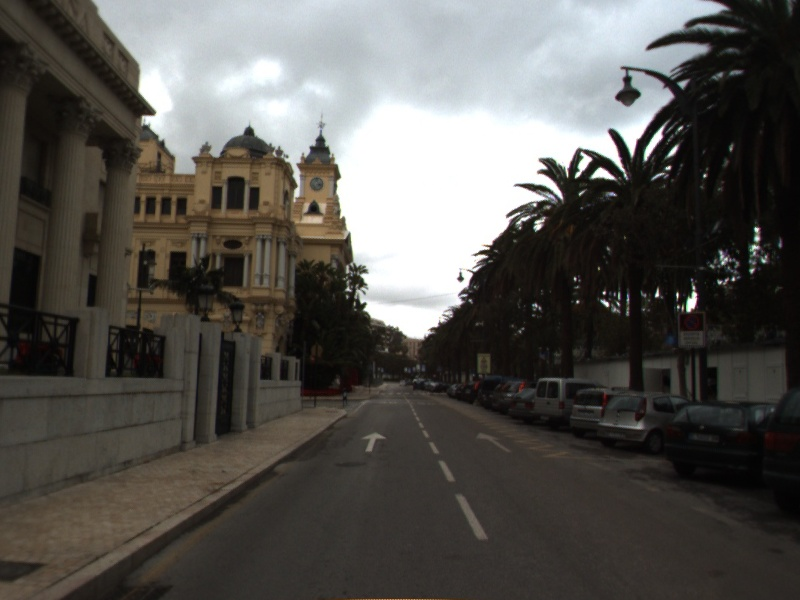STRAIGHT: (474, 429, 514, 454), (359, 430, 389, 454)
